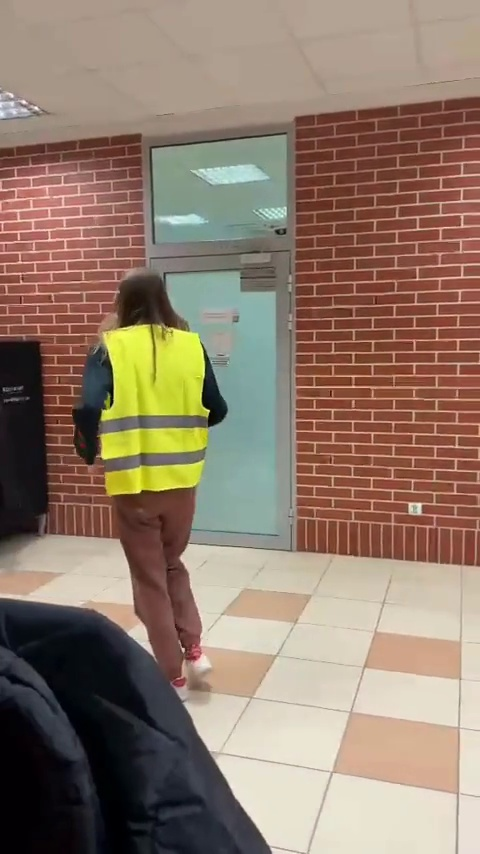vest: (68, 271, 233, 697)
